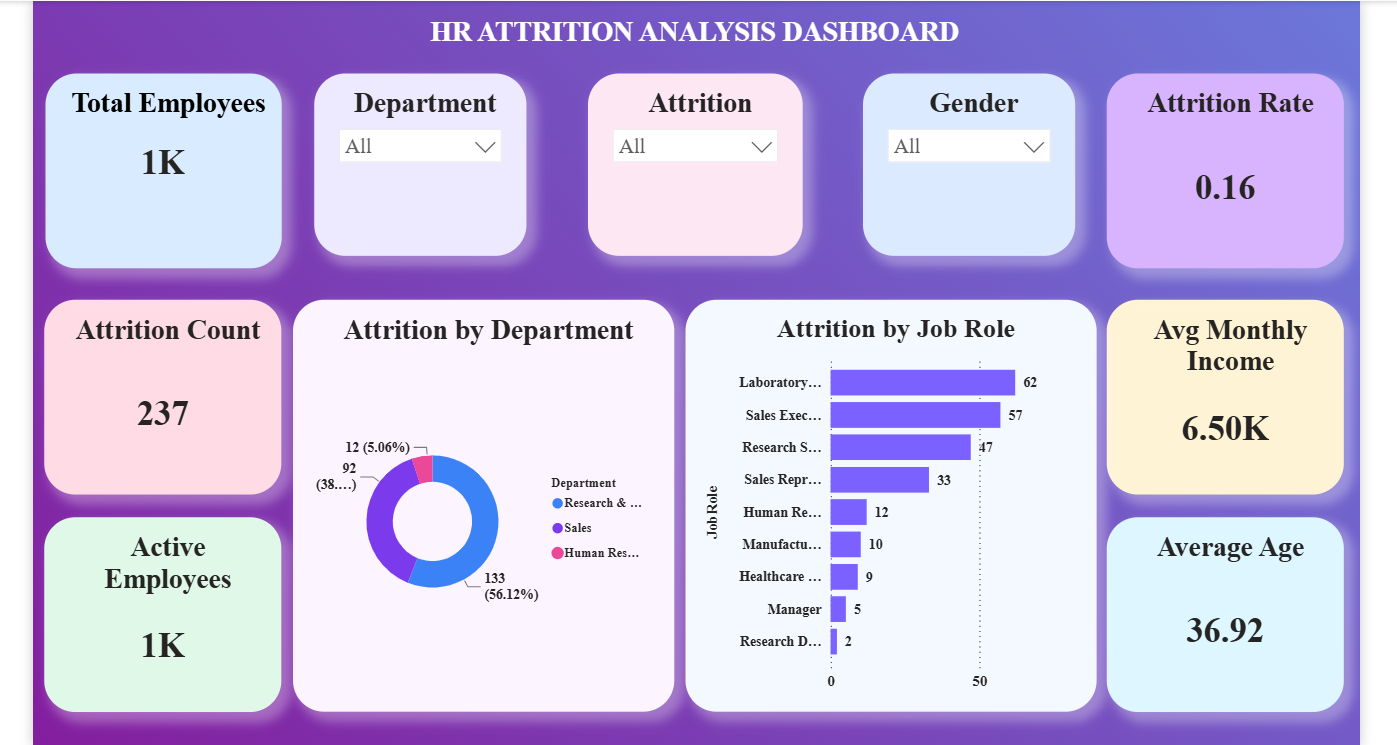

What the dashboard file says about the page in this screenshot:
{"tool":"powerbi","page":{"name":"Executive Dashboard","canvas":[1280,720],"ordinal":0},"visuals":[{"type":"cardVisual","title":"Total Employees","fields":{"Data":["hr_attrition_analysis hr_attrition.Total Employees"]},"box":[12.3,70,227.8,188],"z":0},{"type":"cardVisual","title":"Attrition Count","fields":{"Data":["hr_attrition_analysis hr_attrition.Attrition Count"]},"box":[11,288.2,229.2,188],"z":1000},{"type":"cardVisual","title":"Active Employees","fields":{"Data":["hr_attrition_analysis hr_attrition.Active Employees"]},"box":[11,498.1,229.2,188],"z":2000},{"type":"cardVisual","title":"Attrition Rate","fields":{"Data":["hr_attrition_analysis hr_attrition.Attrition Rate"]},"box":[1036,70,229.2,188],"z":3000},{"type":"cardVisual","title":"Avg Monthly Income","fields":{"Data":["hr_attrition_analysis hr_attrition.Average Monthly Income"]},"box":[1036,288.2,229.2,188],"z":4000},{"type":"cardVisual","title":"Average Age","fields":{"Data":["hr_attrition_analysis hr_attrition.Average Age"]},"box":[1036,498.1,229.2,188],"z":5000},{"type":"textbox","box":[241.5,9.6,794.5,60.4],"z":6000},{"type":"slicer","title":"Department","fields":{"Values":["hr_attrition_analysis hr_attrition.Department"]},"box":[271.7,70,204.5,175.6],"z":7000},{"type":"slicer","title":"Gender","fields":{"Values":["hr_attrition_analysis hr_attrition.Gender"]},"box":[801.4,70,204.5,175.6],"z":8000},{"type":"slicer","title":"Attrition","fields":{"Values":["hr_attrition_analysis hr_attrition.Attrition"]},"box":[535.2,70,207.2,175.6],"z":9000},{"type":"donutChart","title":"Attrition by Department","fields":{"Category":["hr_attrition_analysis hr_attrition.Department"],"Y":["hr_attrition_analysis hr_attrition.Attrition Count"]},"box":[251.1,288.2,367.8,397.9],"z":10000},{"type":"clusteredBarChart","title":"Attrition by Job Role","fields":{"Category":["hr_attrition_analysis hr_attrition.JobRole"],"Y":["hr_attrition_analysis hr_attrition.Attrition Count"]},"box":[629.8,288.2,396.6,397.9],"z":11000}]}

Visuals, with their boxes on the page's 1280x720 design canvas (x1, y1, x2, y2). These are canvas units, not pixel positions in the 1397x745 screenshot, which may show the page scaled, cropped or inside an application window:
"Total Employees" cardVisual: crop(12, 70, 240, 258)
"Attrition Count" cardVisual: crop(11, 288, 240, 476)
"Active Employees" cardVisual: crop(11, 498, 240, 686)
"Attrition Rate" cardVisual: crop(1036, 70, 1265, 258)
"Avg Monthly Income" cardVisual: crop(1036, 288, 1265, 476)
"Average Age" cardVisual: crop(1036, 498, 1265, 686)
textbox: crop(242, 10, 1036, 70)
"Department" slicer: crop(272, 70, 476, 246)
"Gender" slicer: crop(801, 70, 1006, 246)
"Attrition" slicer: crop(535, 70, 742, 246)
"Attrition by Department" donutChart: crop(251, 288, 619, 686)
"Attrition by Job Role" clusteredBarChart: crop(630, 288, 1026, 686)
